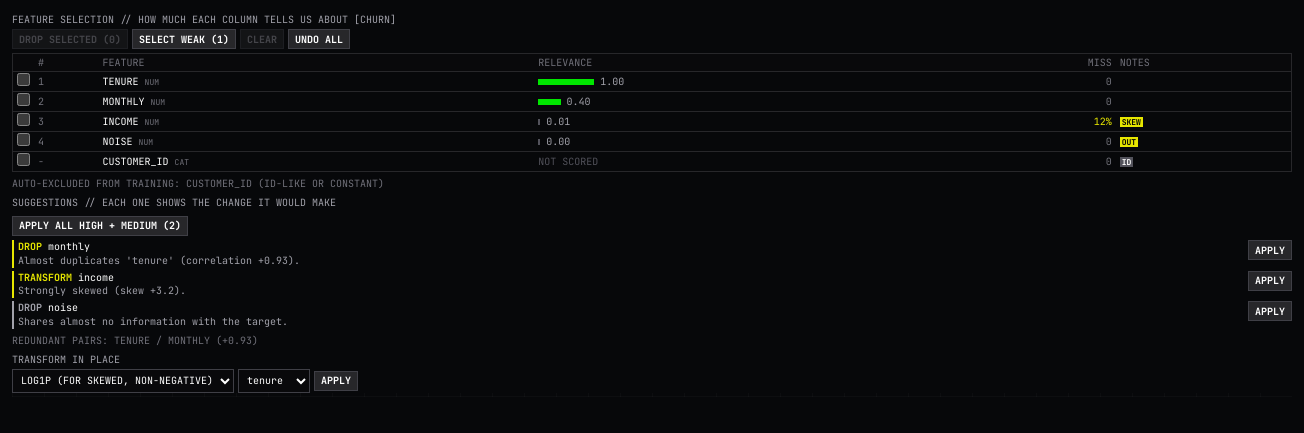
Test: FeaturesTab › undo restores the raw file
The width and height of the screenshot is (1304, 433).
Expected: the table with test id "features-table" is shown, [13,54,1291,171]
Click the button with test id "feat-undo". click: [319, 39]
box: [288,29,350,49]
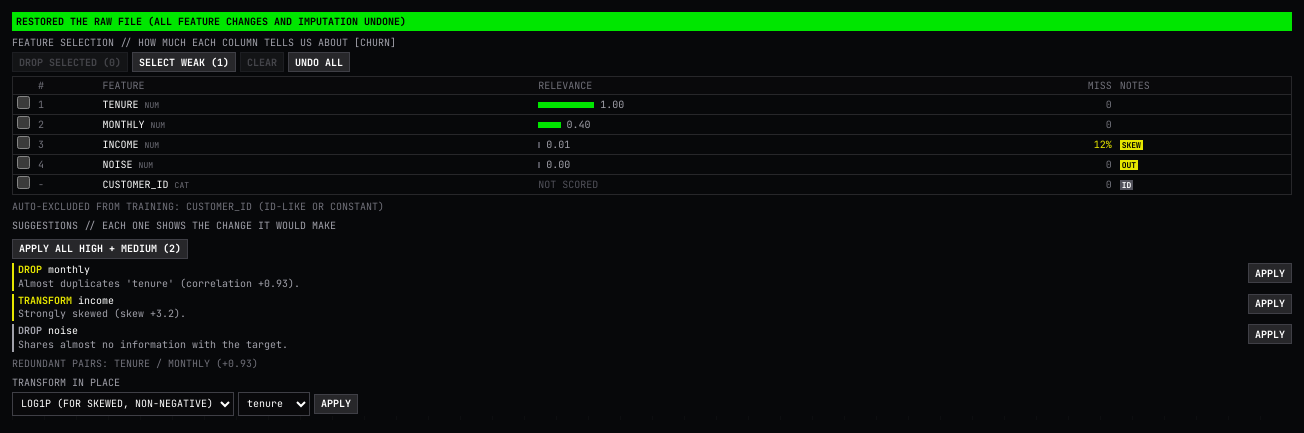
Now the text with test id "features-msg" shows "RESTORED THE RAW FILE", box [16,15,406,28]
